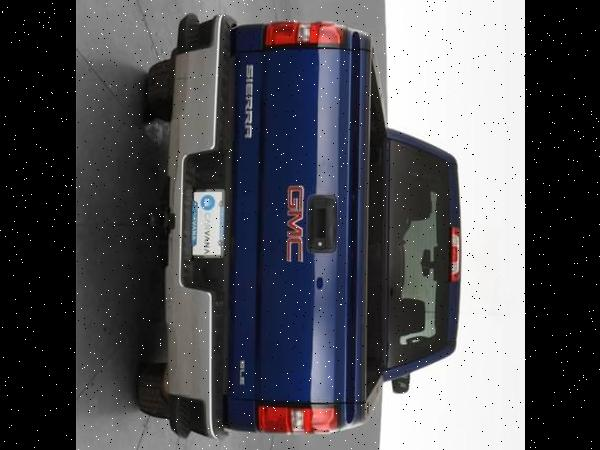Left_Taillight: (264, 18, 349, 51)
Rear_Bumper: (166, 11, 238, 438)
Rear_Windshield: (385, 131, 461, 381)
Right_Taillight: (256, 403, 341, 438)
Tailgate: (226, 25, 376, 433)
